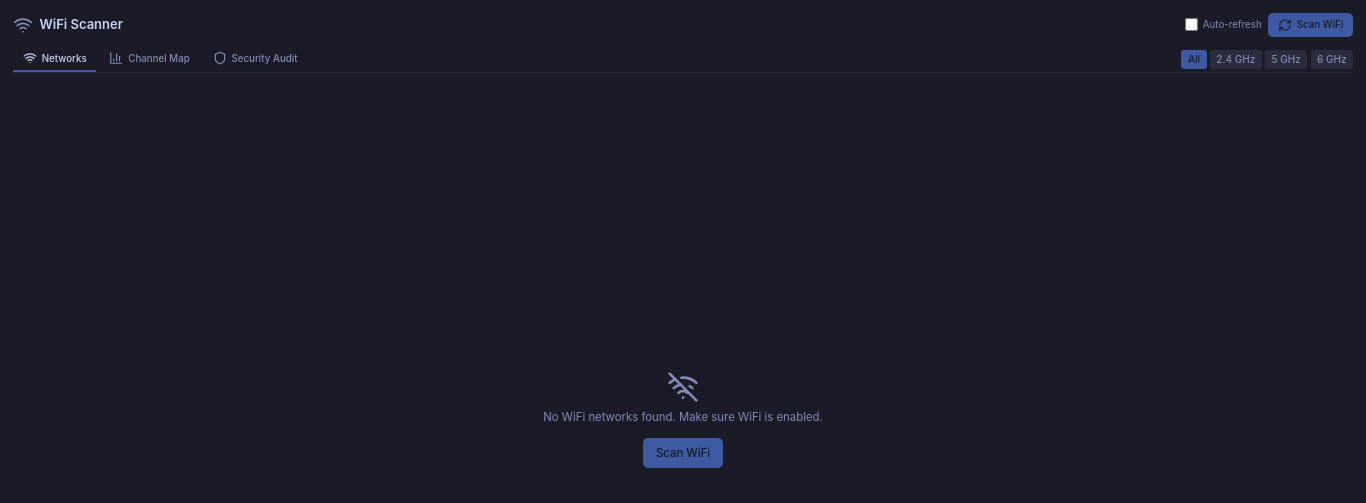
Test: WifiScanner › shows a scan error
This screenshot has width=1366, height=503.
Click the button "Scan WiFi" next to "Auto-refresh" at coordinates (1311, 25), box [1268, 13, 1353, 37]
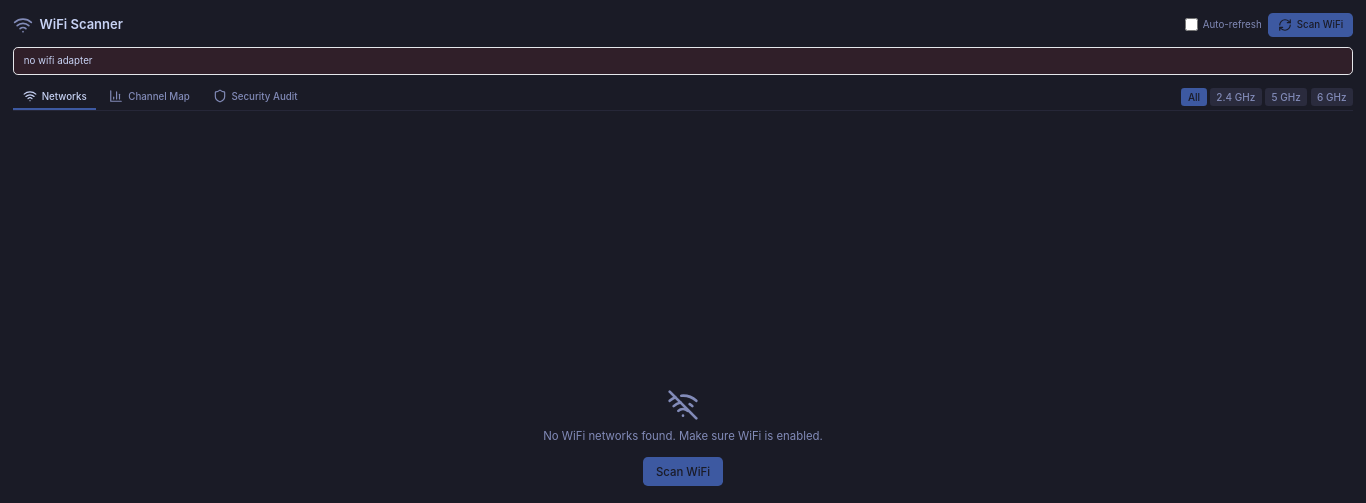
Check: the text "no wifi adapter" is shown, box [13, 46, 1353, 74]
